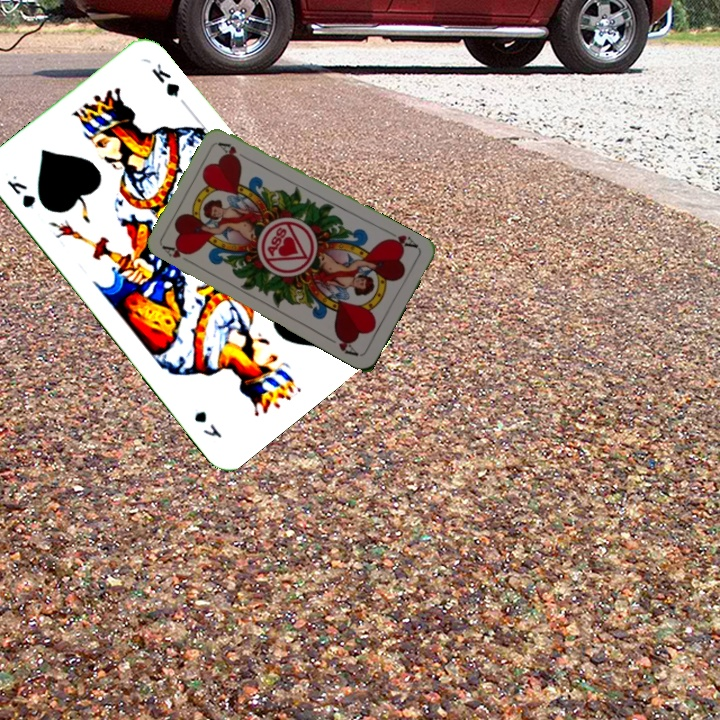GK: (2, 171, 38, 212)
HA: (381, 226, 421, 251), (159, 241, 197, 267)
